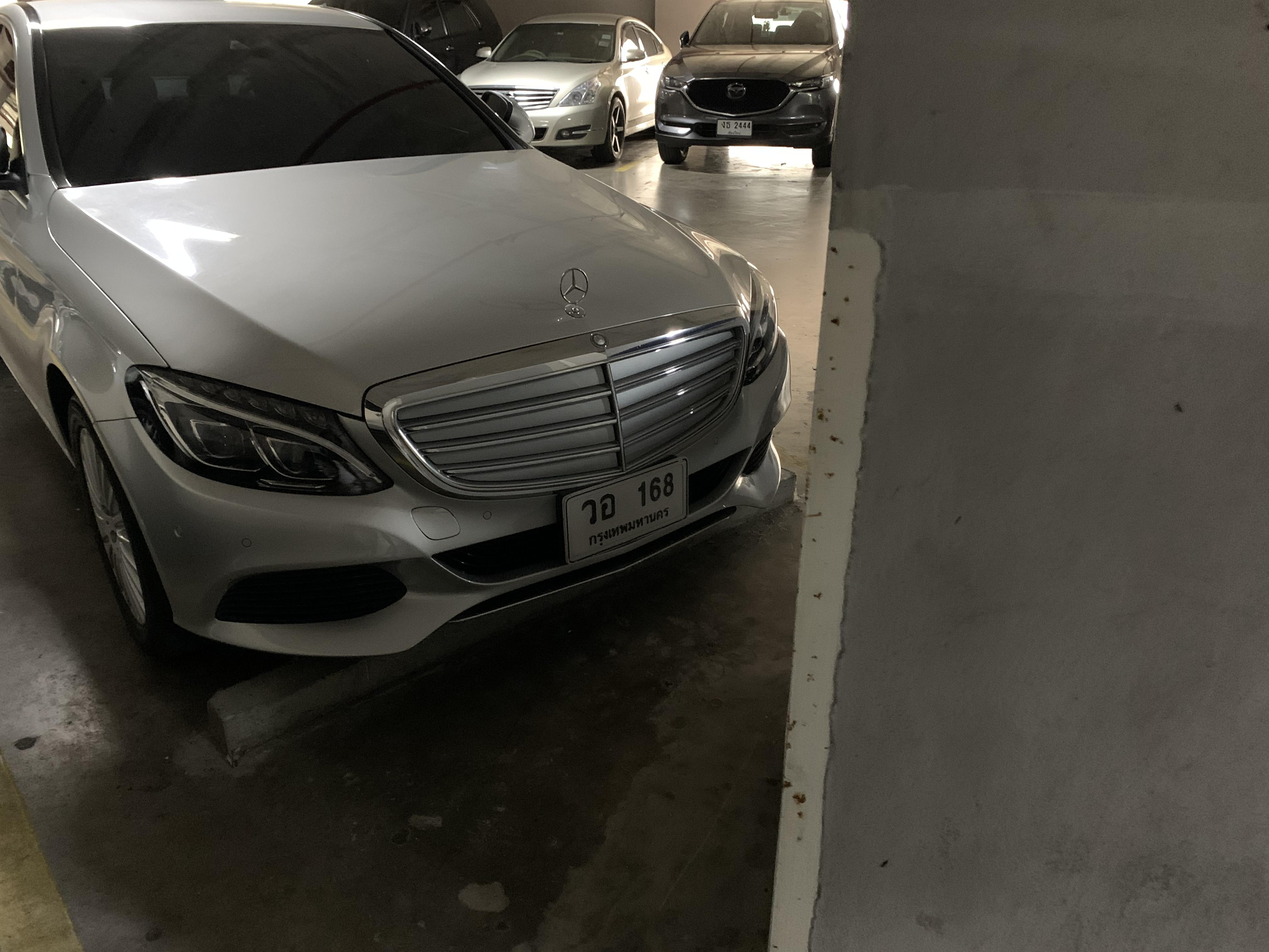license-plate: (556, 453, 696, 568)
